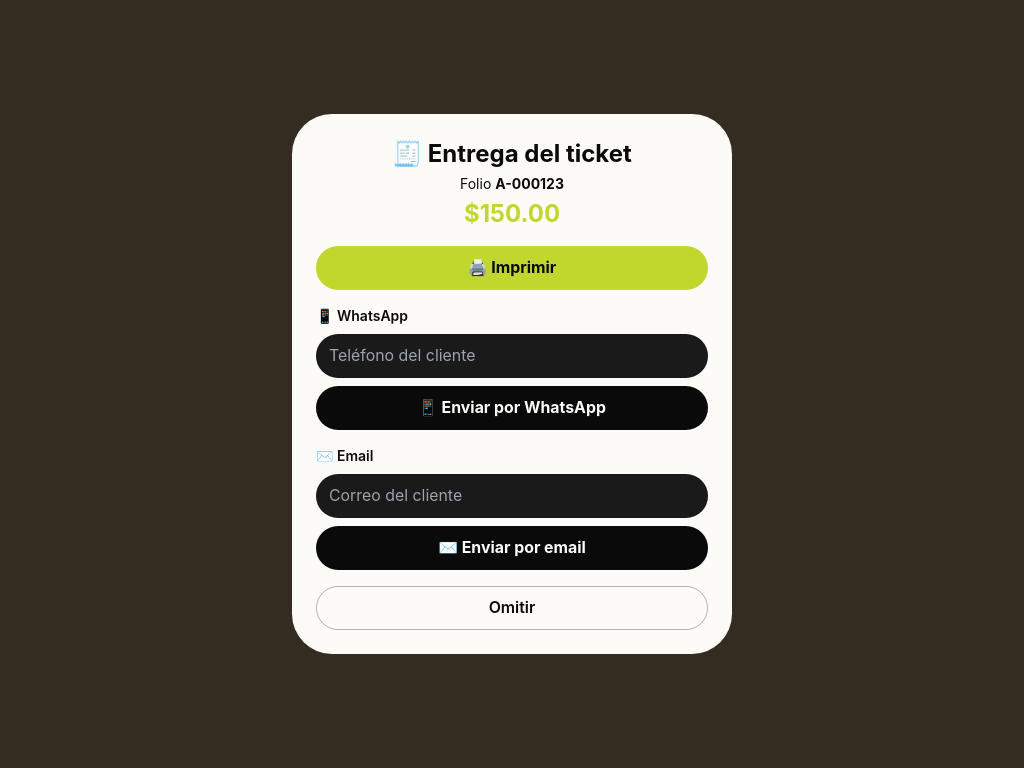
Test: F8.5 — TicketDeliveryPanel › criterio2: imprimir avisa cuando la impresión falla
Click the button with id "btn-imprimir".
click(512, 268)  # box [316,246,708,290]
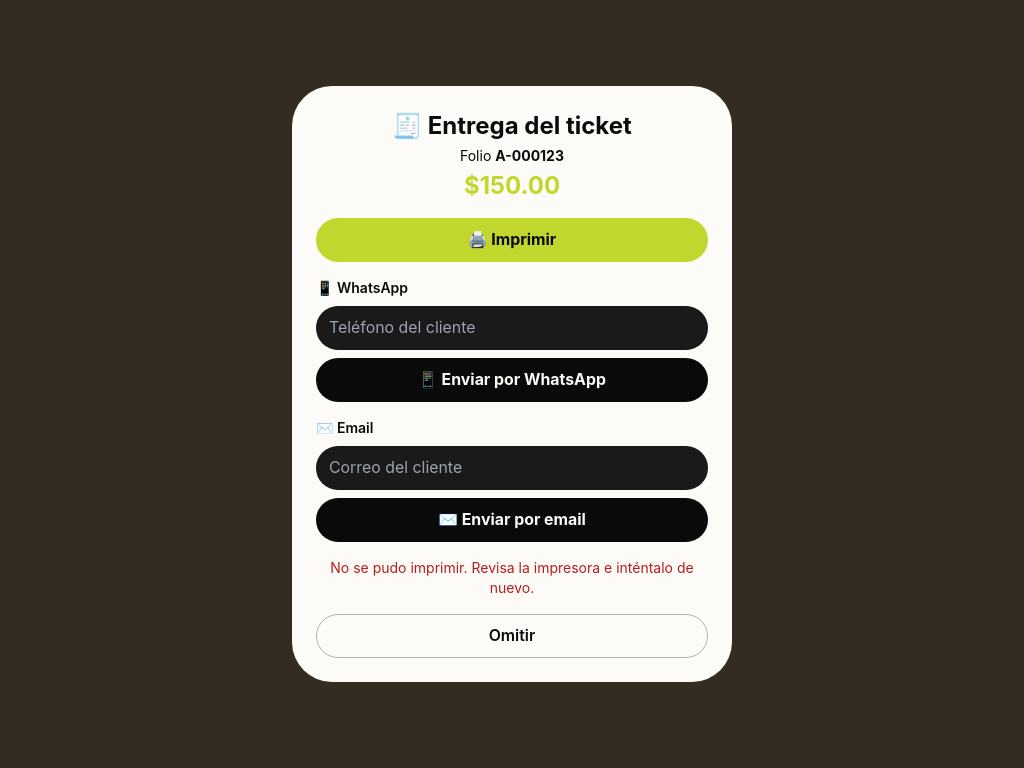
Check: the message shows "No se pudo imprimir", box [330,559,694,596]
